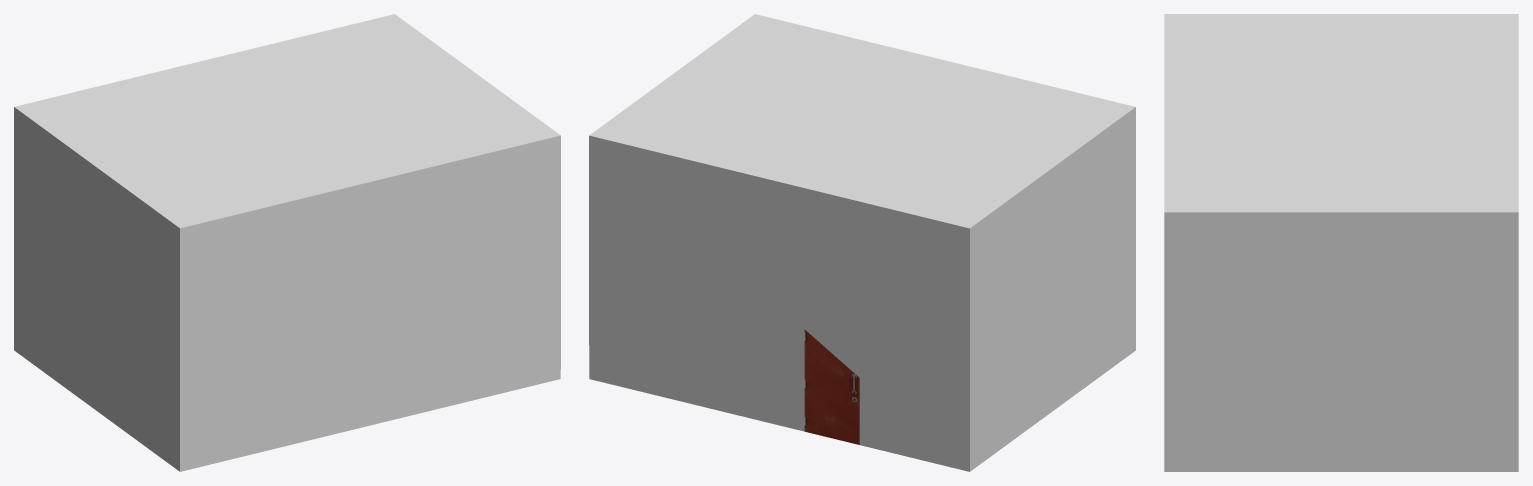
The model's file is comnata.fbx.
The picture shows the model from 3 angles, left to right: view 1: azimuth 30°, elevation 25°; view 2: azimuth 150°, elevation 25°; view 3: azimuth 270°, elevation 25°; orthographic projection. The views are drawn at different scales.
Parts seen in each view (by area): view 1: Cube, Cube.007, Cube.009; view 2: Cube, MetalDoor3; view 3: Cube, Cube.006.
Boxes of the visible parts, bbox=[...] form: Cube: bbox=[14, 14, 560, 471]; Cube.007: bbox=[361, 277, 441, 351]; Cube.009: bbox=[65, 270, 100, 348]; Cube: bbox=[589, 14, 1135, 471]; MetalDoor3: bbox=[804, 329, 859, 444]; Cube: bbox=[1164, 14, 1518, 471]; Cube.006: bbox=[1260, 287, 1515, 471].
Bounding box in the file's own units: 1182 × 1565 × 961.
